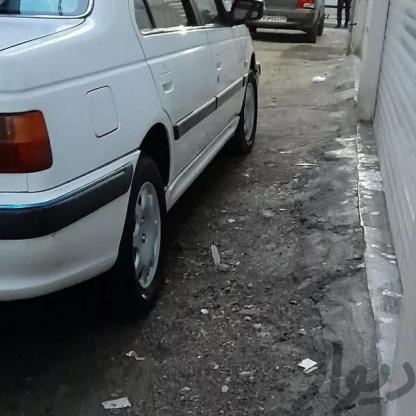Car: (0, 0, 367, 370), (186, 0, 388, 24)
